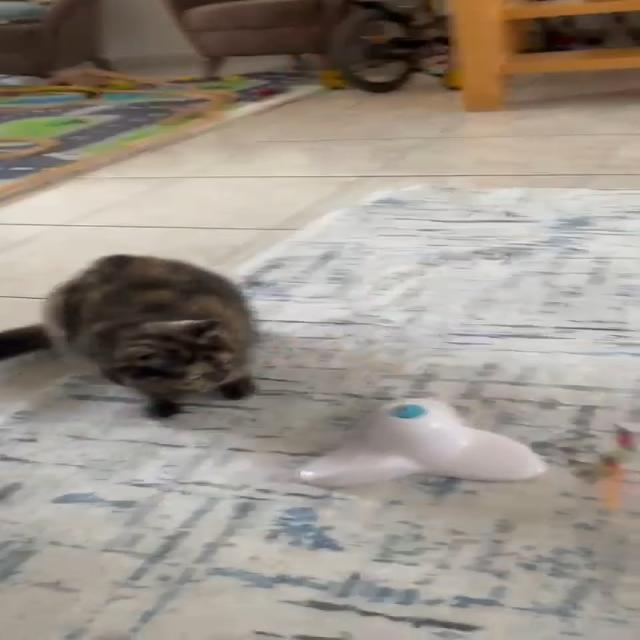authorized: (0, 253, 261, 419)
